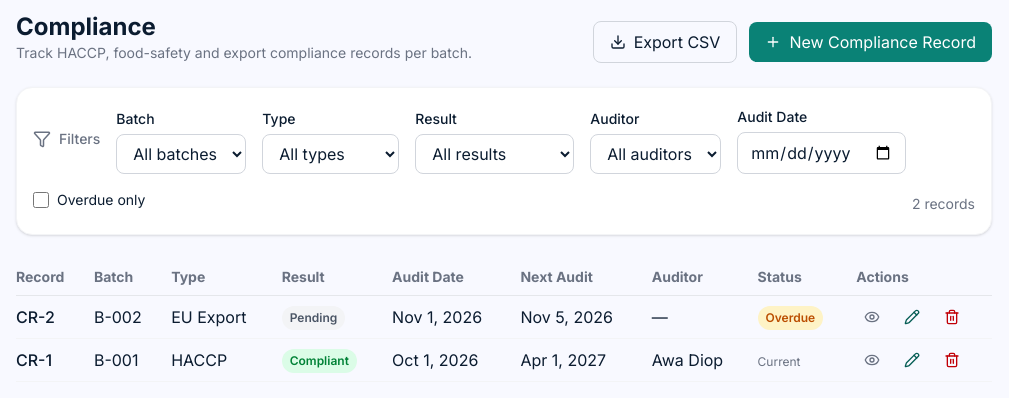
Test: ComplianceRecordList › filters by audit date
This screenshot has width=1009, height=398.
Expected: the text "CR-1" is shown, 16,338 -> 94,382
Type "2026-10-01" into the date field named "Filter by audit date" at (822, 153), box 737,132 -> 906,174
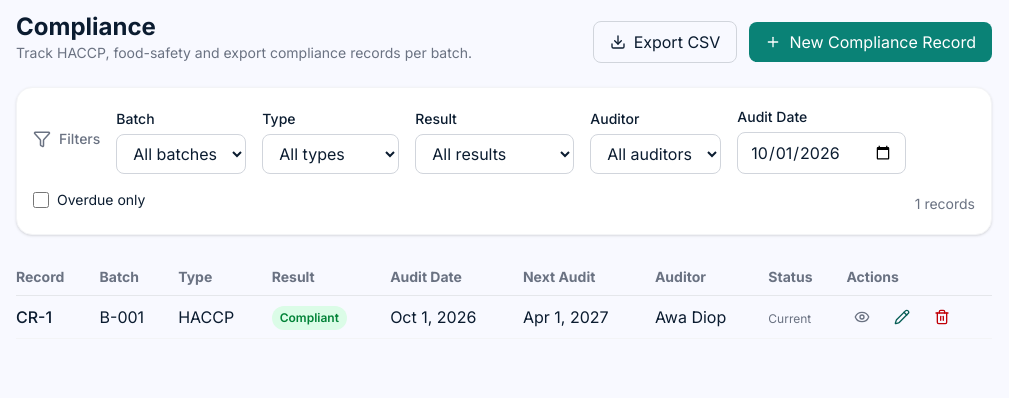
Expected: the text "CR-1" is shown, 16,296 -> 100,338
Expected: the text "CR-2" is gone
